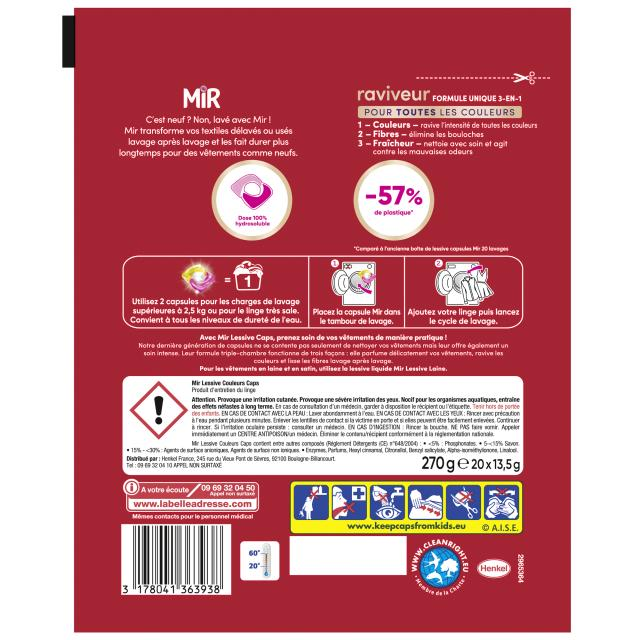GHS_Symbol_EXCLAMATION_MARK: (130, 382, 188, 439)
